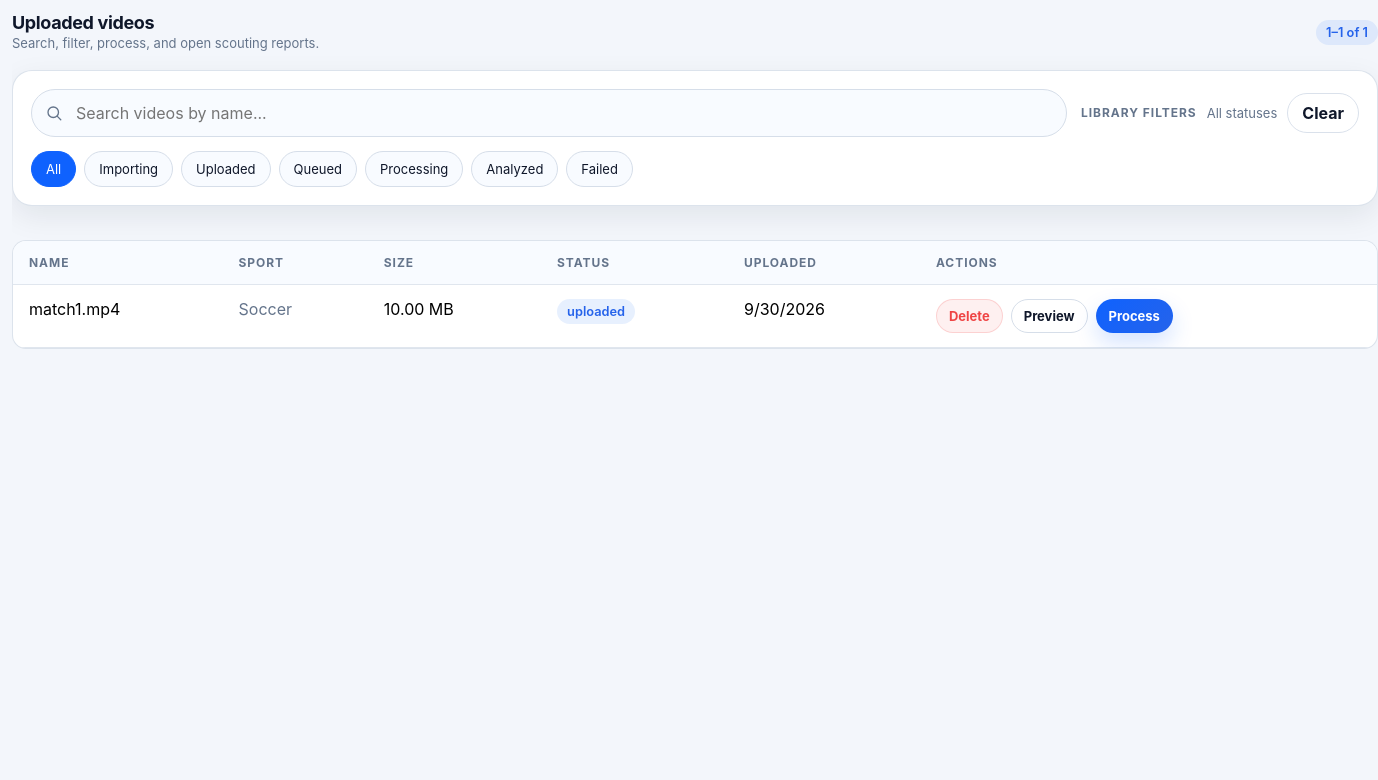
Test: VideoList real-time analysis updates › marks the video failed and surfaces the error on analysis:failed
expect the text "match1.mp4" is shown: met, box x1=13 y1=284 x2=222 y2=348
Click the button "Process" at (1134, 316), box x1=1096 y1=299 x2=1173 y2=333
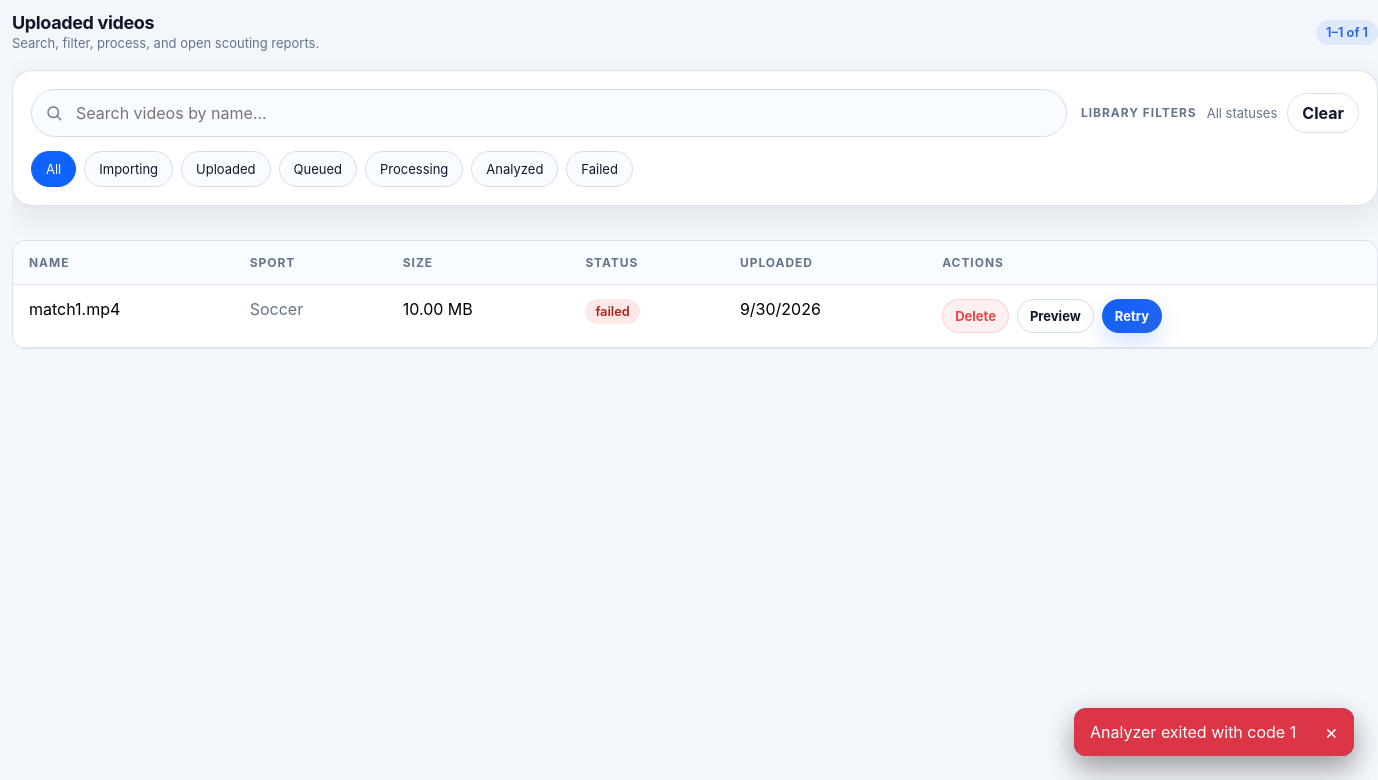
expect the text "failed" is shown: met, box x1=585 y1=299 x2=640 y2=324
expect the text "Analyzer exited with code 1" is shown: met, box x1=1090 y1=722 x2=1296 y2=742
